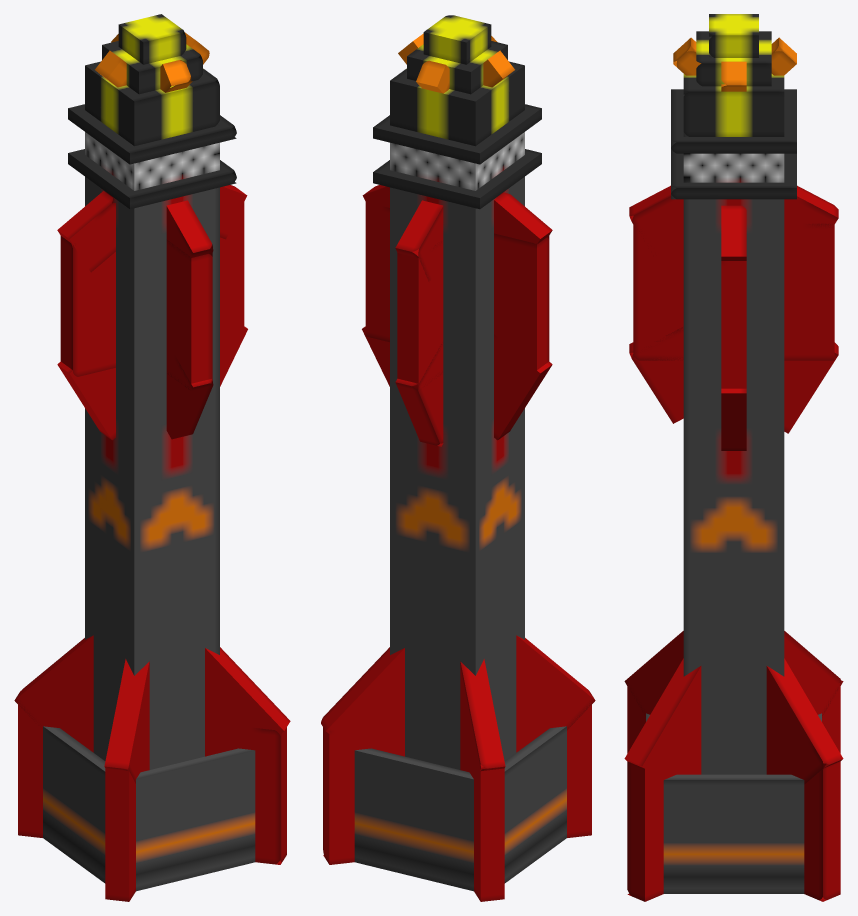
File: missile_antiballistic.obj
The picture shows the model from 3 angles, left to right: view 1: azimuth 30°, elevation 25°; view 2: azimuth 150°, elevation 25°; view 3: azimuth 270°, elevation 25°; orthographic projection.
Visible parts, largest first — view 1: Shape1, Shape3, Shape3d, Shape5a, Shape3b, Shape2c, Shape7a, Shape6, Shape4, Shape3a, Shape6a, Shape7 (+10 smaller); view 2: Shape1, Shape2a, Shape3a, Shape5a, Shape4, Shape2c, Shape7a, Shape6, Shape3d, Shape3b, Shape7, Shape6a (+9 smaller); view 3: Shape1, Shape2b, Shape6, Shape3b, Shape3a, Shape4, Shape3d, Shape7a, Shape6a, Shape5a, Shape7, Shape5 (+10 smaller).
Boxes of the visible parts, left/top/right/bottom form: Shape1: left=85, top=132, right=219, bottom=769; Shape3: left=136, top=748, right=255, bottom=891; Shape3d: left=18, top=701, right=286, bottom=864; Shape5a: left=60, top=202, right=244, bottom=376; Shape3b: left=14, top=635, right=290, bottom=745; Shape2c: left=43, top=726, right=105, bottom=883; Shape7a: left=85, top=61, right=219, bottom=146; Shape6: left=166, top=239, right=212, bottom=390; Shape4: left=105, top=768, right=135, bottom=901; Shape3a: left=104, top=659, right=149, bottom=783; Shape6a: left=68, top=104, right=236, bottom=164; Shape7: left=68, top=149, right=236, bottom=209; Shape1: left=390, top=132, right=524, bottom=769; Shape2a: left=354, top=748, right=473, bottom=891; Shape3a: left=321, top=635, right=595, bottom=756; Shape5a: left=365, top=202, right=549, bottom=369; Shape4: left=323, top=701, right=591, bottom=864; Shape2c: left=504, top=726, right=566, bottom=883; Shape7a: left=390, top=61, right=524, bottom=146; Shape6: left=397, top=241, right=443, bottom=390; Shape3d: left=460, top=736, right=504, bottom=901; Shape3b: left=460, top=659, right=505, bottom=770; Shape7: left=373, top=149, right=541, bottom=209; Shape6a: left=373, top=104, right=541, bottom=164; Shape1: left=683, top=153, right=784, bottom=774; Shape2b: left=663, top=774, right=804, bottom=893; Shape6: left=633, top=215, right=834, bottom=360; Shape3b: left=624, top=631, right=843, bottom=784; Shape3a: left=624, top=631, right=843, bottom=784; Shape4: left=627, top=682, right=840, bottom=901; Shape3d: left=627, top=683, right=840, bottom=901; Shape7a: left=683, top=74, right=784, bottom=136; Shape6a: left=671, top=89, right=796, bottom=153; Shape5a: left=721, top=261, right=746, bottom=388; Shape7: left=671, top=153, right=796, bottom=199; Shape5: left=629, top=326, right=683, bottom=423.
Size of the model in its own units: 1.09 by 4.56 by 1.09.
